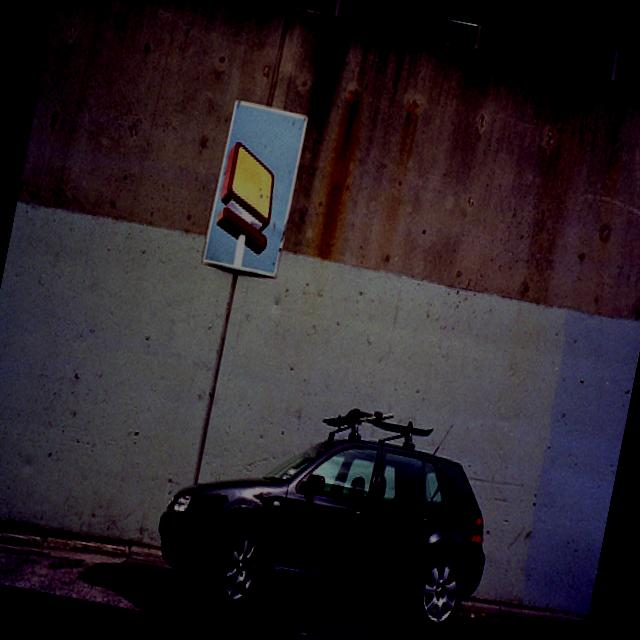Vehicle: (145, 373, 510, 640)
